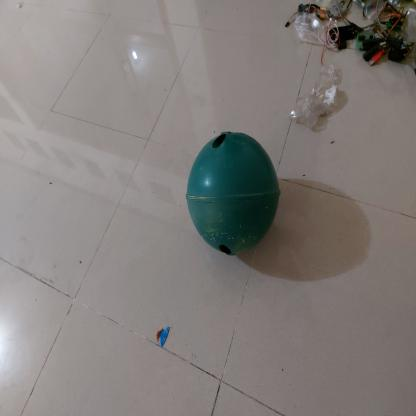green_buoy: (182, 126, 282, 262)
